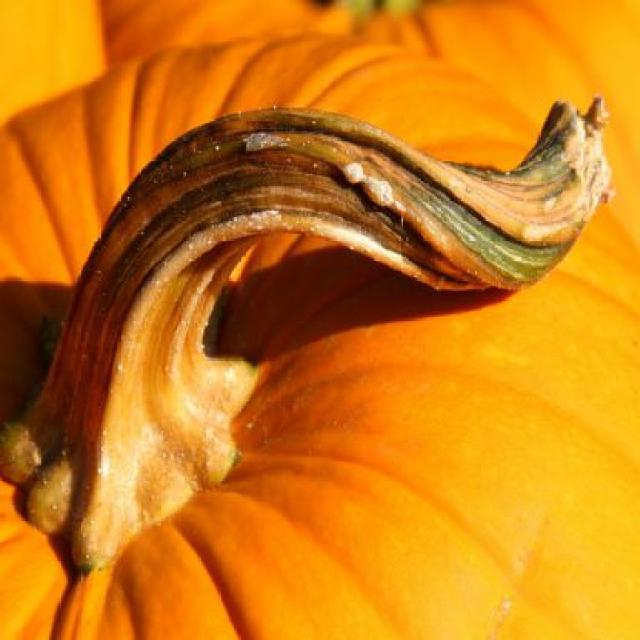Pumpkin: (0, 18, 640, 640), (104, 0, 348, 64), (0, 0, 112, 120)
